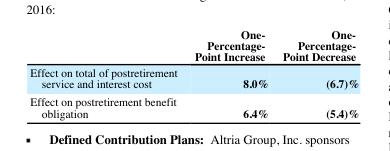table: (29, 28, 358, 119)
table column: (29, 28, 185, 119), (185, 28, 275, 119), (275, 28, 358, 119)
table column header: (29, 28, 358, 65)
table row: (29, 28, 358, 65), (29, 65, 358, 93), (29, 93, 358, 119)
